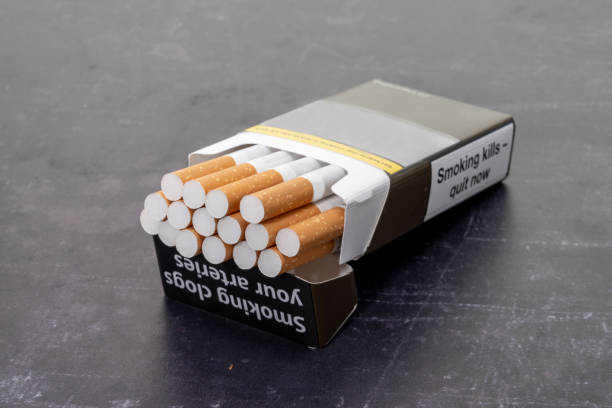cigarette: (140, 76, 517, 349), (204, 156, 330, 219), (181, 149, 304, 210), (161, 142, 278, 202), (238, 163, 347, 224), (244, 194, 345, 251), (274, 204, 347, 259), (258, 236, 342, 278), (216, 213, 250, 245), (202, 235, 234, 265), (144, 189, 171, 222), (232, 242, 261, 272), (175, 227, 202, 258), (191, 207, 217, 237), (167, 200, 193, 230), (157, 221, 182, 248), (140, 208, 164, 234)
